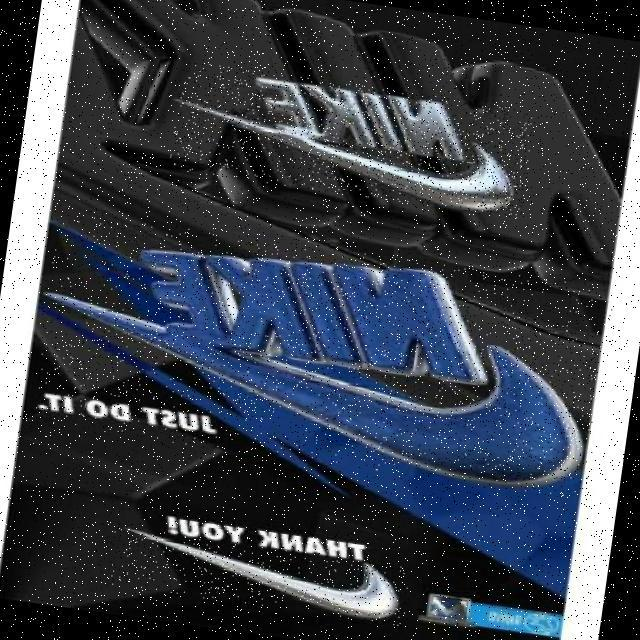Nike: (29, 211, 616, 501), (169, 61, 537, 220), (107, 526, 412, 627)
